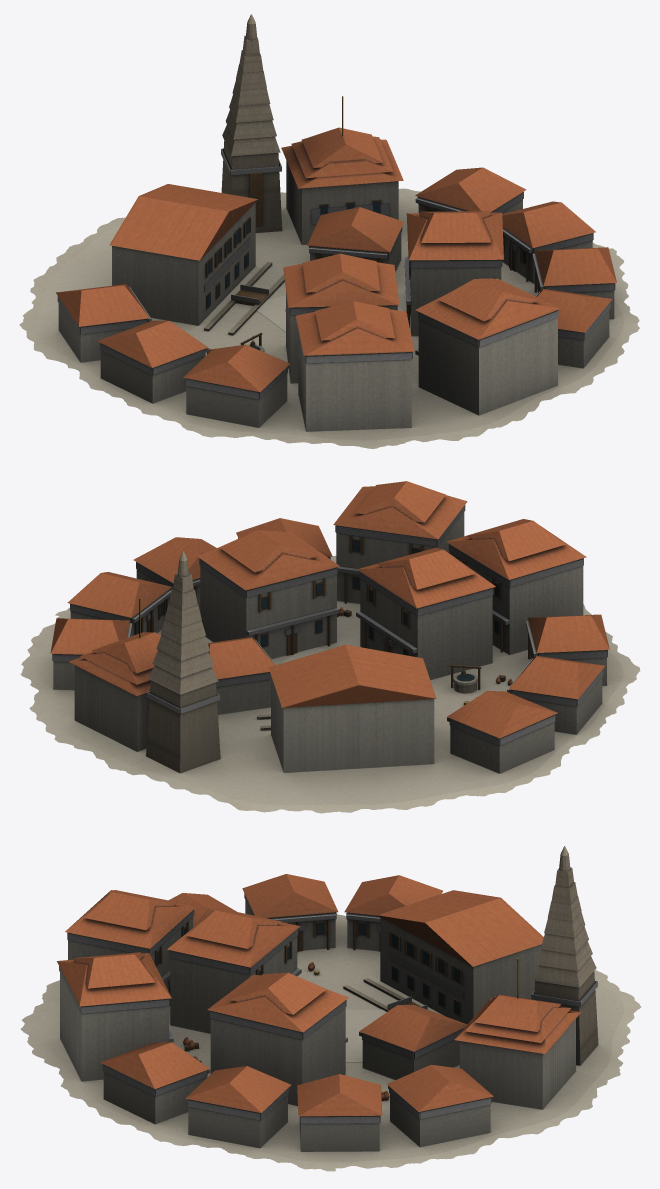
The model's file is gunpowder-town-medium-b-monsoon.glb.
The picture shows the model from 3 angles, top to bottom: view 1: azimuth 30°, elevation 25°; view 2: azimuth 150°, elevation 25°; view 3: azimuth 270°, elevation 25°; orthographic projection.
Visible parts, largest first — view 1: LOD0; view 2: LOD0; view 3: LOD0.
Part boxes in pixels (bbox=[...]): LOD0: bbox=[19, 14, 639, 448]; LOD0: bbox=[20, 481, 640, 813]; LOD0: bbox=[20, 846, 641, 1171].
Size of what is drawn, in the model's own units: 5.96 by 2.19 by 6.02.
3 materials, 3 textured.
